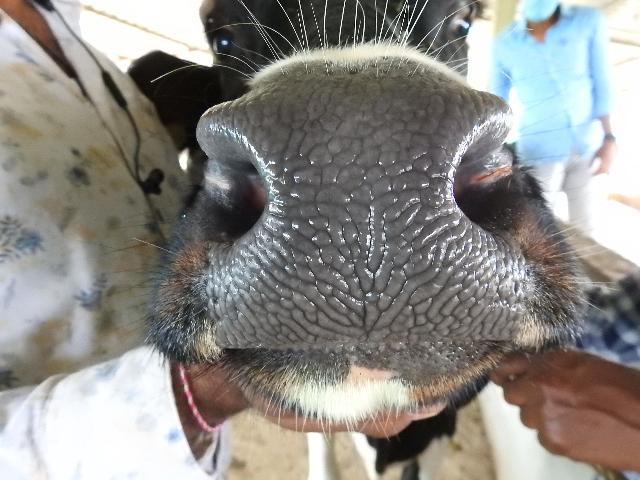Muzzle: (245, 98, 467, 338)
